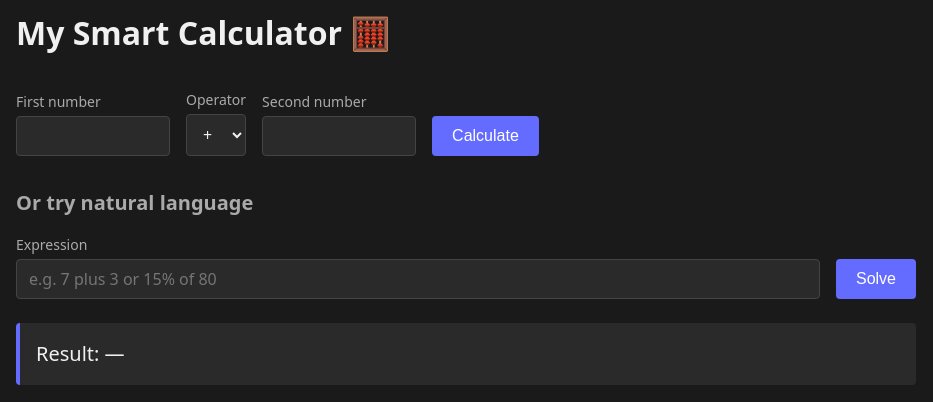
Test: App › [CALC-008] shows validation when only the first field is empty
Type "5" into the number field labelled "Second number" at (339, 136), box [262,116,416,156]
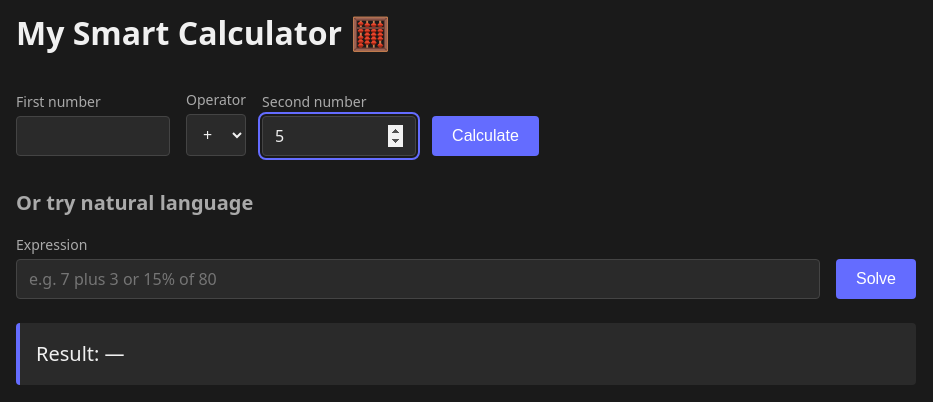
Select "+" in the dropdown labelled "Operator" at (216, 135), box [186,114,246,156]
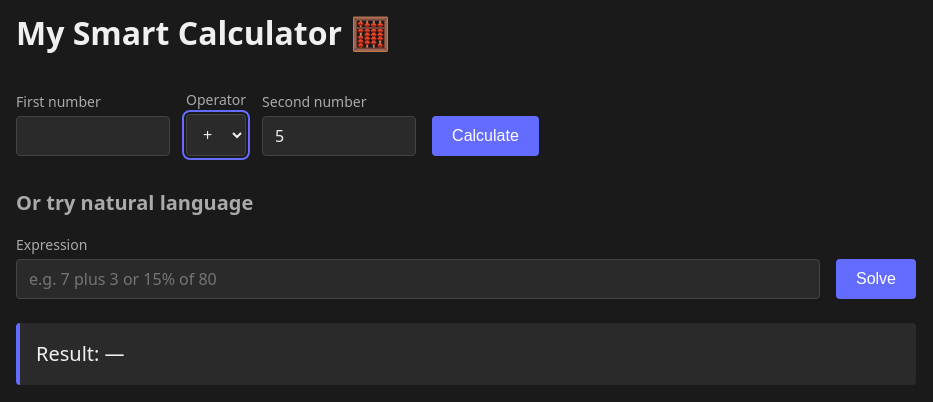
Click the button "Calculate" at (485, 136), box [432,116,539,156]
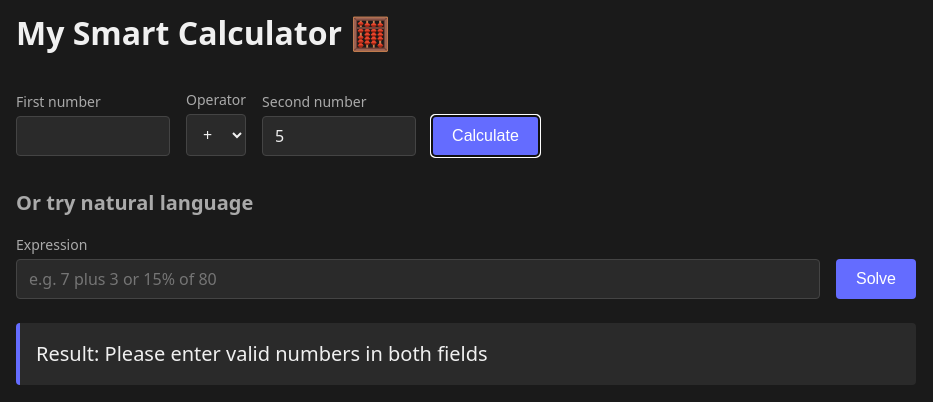
Check: the text "Result: Please enter valid numbers in both fields" is shown, box [16,323,916,385]
